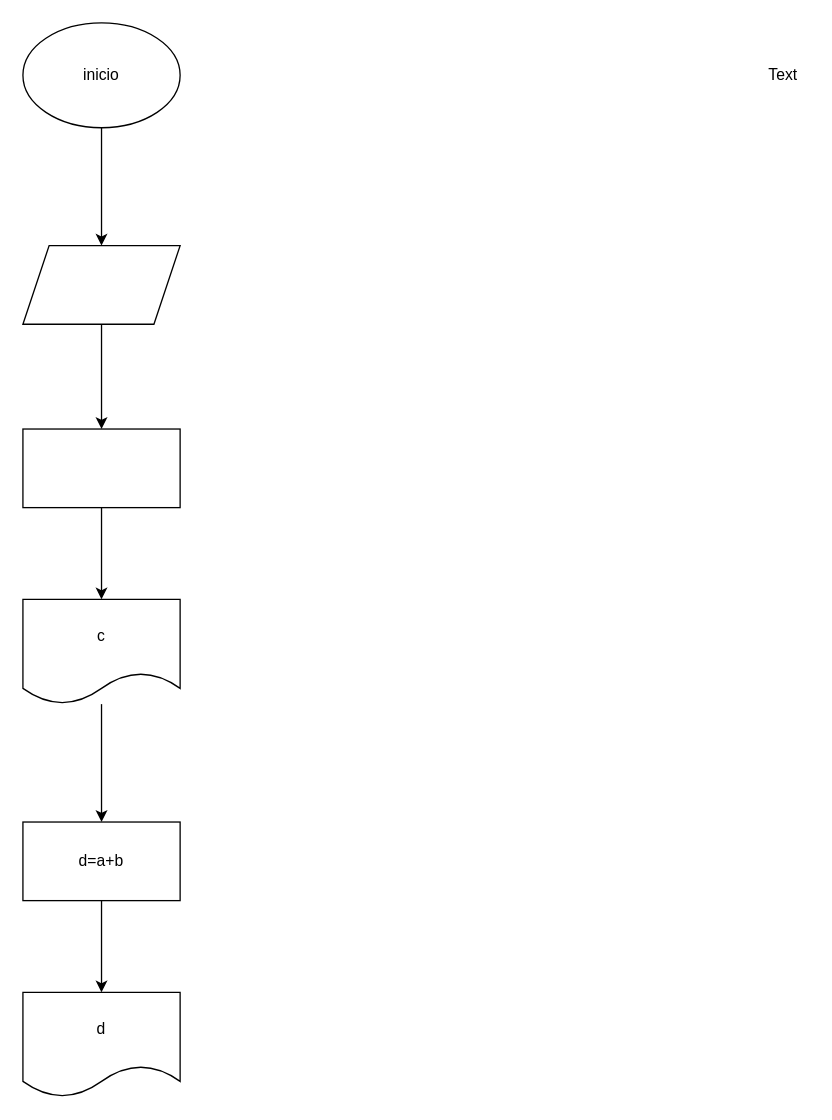
The diagram is 832 pixels wide and 1120 high, and some of its shapes have lost their labels. Here are the shapes that lost their labels. From the top down, the box of each, then its label:
(22, 244, 180, 324): a,b
(22, 428, 180, 508): c=a*b
